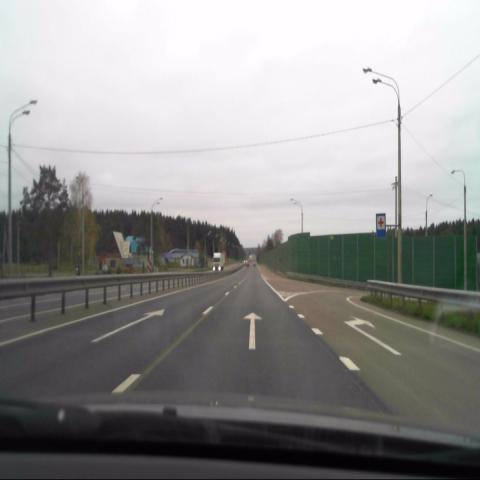7_1: (375, 213, 386, 240)
